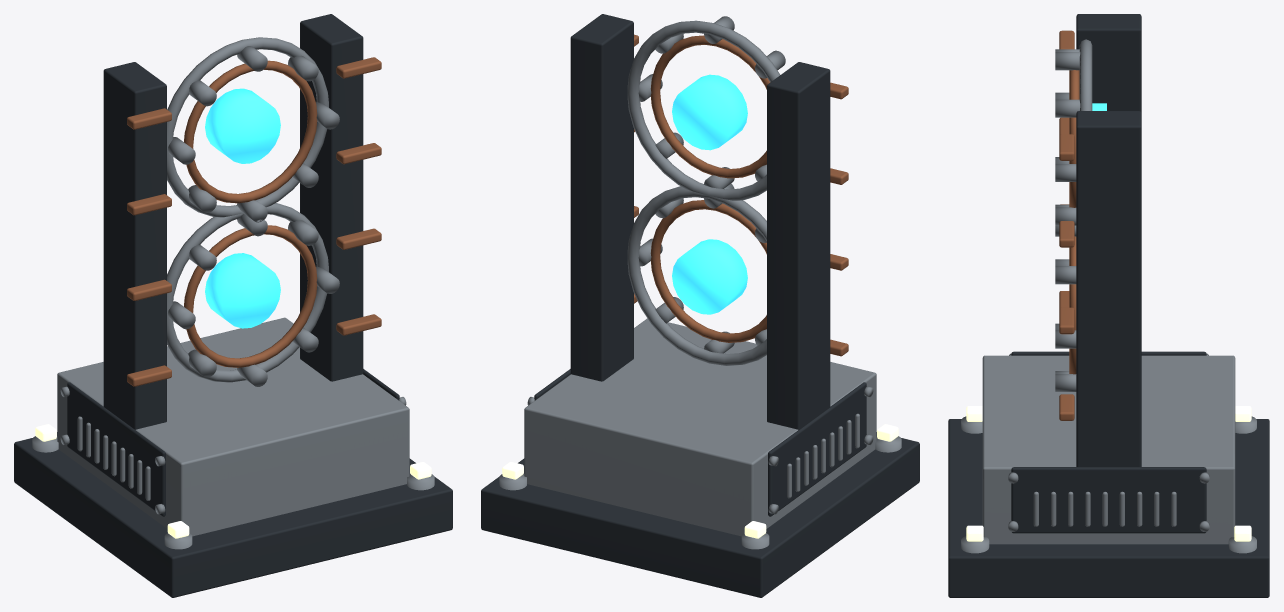
The model's file is waf.glb.
The picture shows the model from 3 angles, left to right: view 1: azimuth 30°, elevation 25°; view 2: azimuth 150°, elevation 25°; view 3: azimuth 270°, elevation 25°; orthographic projection.
Visible parts, largest first — view 1: body_dark.037, body_steel.039, head_steel.007, head_blue.002, head_copper.003, body_copper.002, body_steel.040, body_warm.027; view 2: body_dark.037, body_steel.039, head_steel.007, head_blue.002, head_copper.003, body_steel.040, body_copper.002, body_warm.027; view 3: body_dark.037, body_steel.039, head_steel.007, body_copper.002, body_steel.040, head_copper.003, body_warm.027.
Boxes of the visible parts, x1,y1,x2,y2 form: body_dark.037: (14,14,452,597); body_steel.039: (57,317,409,536); head_steel.007: (167,37,339,386); head_blue.002: (205,88,280,328); head_copper.003: (184,60,317,367); body_copper.002: (127,57,381,386); body_steel.040: (32,386,434,549); body_warm.027: (35,424,431,538); body_dark.037: (481,14,919,597); body_steel.039: (524,318,876,536); head_steel.007: (627,16,785,365); head_blue.002: (672,74,747,314); head_copper.003: (650,35,770,342); body_steel.040: (499,386,901,549); body_copper.002: (634,34,848,356); body_warm.027: (502,424,898,538); body_dark.037: (948,14,1269,597); body_steel.039: (982,355,1235,544); head_steel.007: (1055,39,1092,391); body_copper.002: (1059,30,1074,420); body_steel.040: (961,353,1256,553); head_copper.003: (1069,70,1079,374); body_warm.027: (966,406,1251,541).
Bounding box in the file's own units: 0.86 × 1.39 × 0.84.
